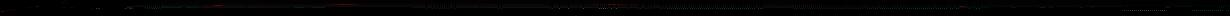Blue cone: (28, 7, 33, 8), (35, 6, 39, 7)
Yellow cone: (1090, 6, 1096, 8)
